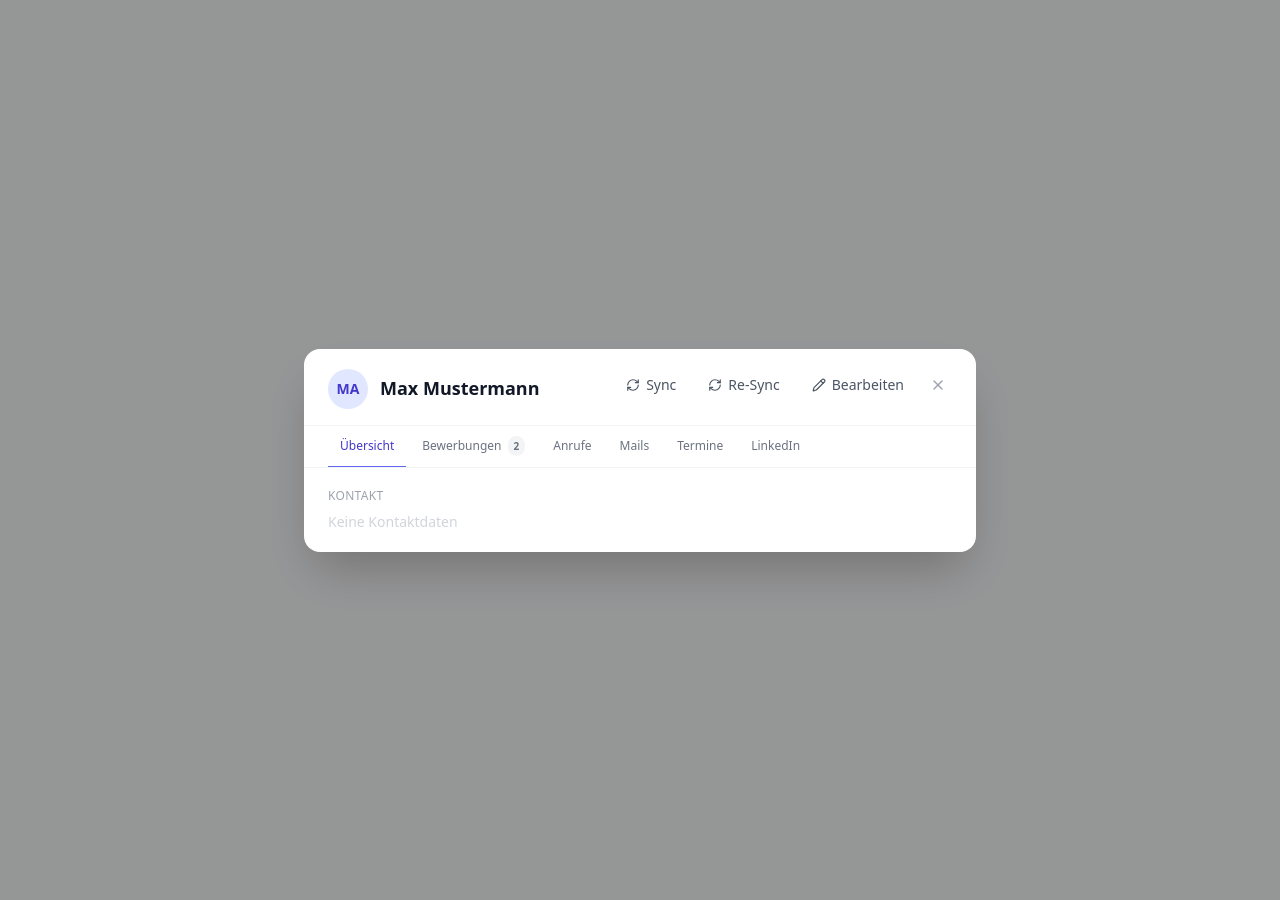
Test: Verlinkte Bewerbungen zeigen abgesagte Bewerbungen durchgestrichen (Kontakte) › positiv: ContactModal-Bewerbungen-Tab streicht den Namen durch statt eines Status-Badges bei Absage
Click the button "Bewerbungen 2": click(474, 446) x1=410 y1=426 x2=537 y2=468
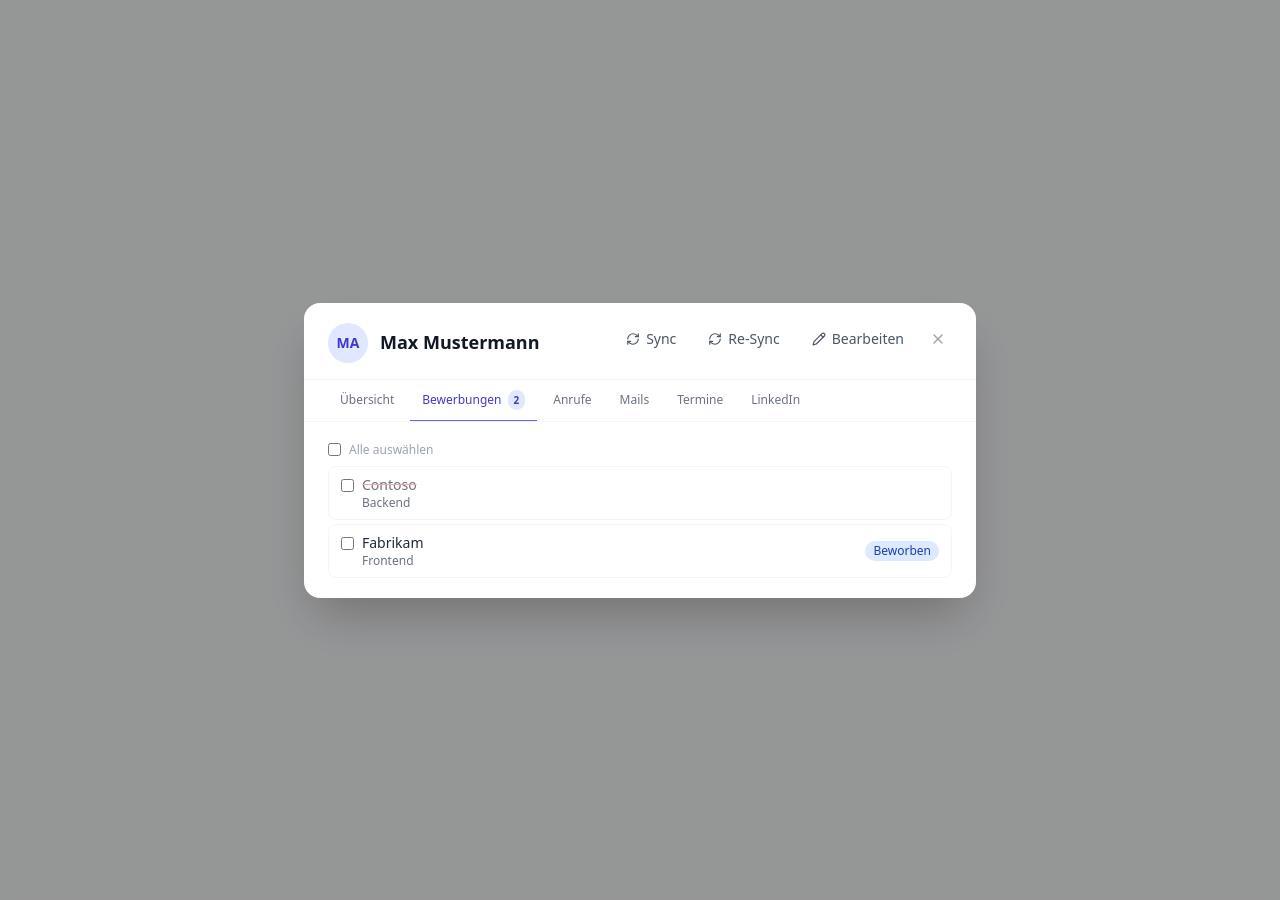
Expected: the text "Beworben" is shown, x1=866 y1=540 x2=939 y2=560
